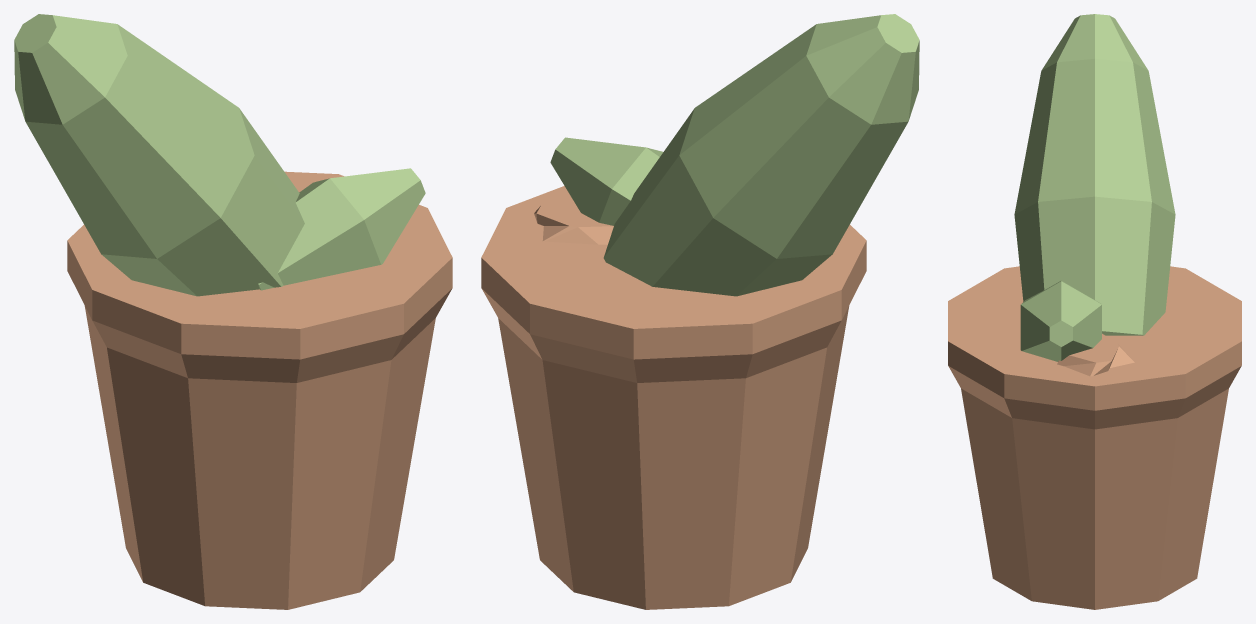
The model's file is lab_cactus_dead.glb.
The picture shows the model from 3 angles, left to right: view 1: azimuth 30°, elevation 25°; view 2: azimuth 150°, elevation 25°; view 3: azimuth 270°, elevation 25°; orthographic projection. The views are drawn at different scales.
Parts seen in each view (by area): view 1: lab_cactus_dead; view 2: lab_cactus_dead; view 3: lab_cactus_dead.
Boxes of the visible parts, left/top/right/bottom form: lab_cactus_dead: left=14, top=14, right=452, bottom=609; lab_cactus_dead: left=481, top=14, right=919, bottom=609; lab_cactus_dead: left=948, top=14, right=1241, bottom=609.
Size of the model in its own units: 0.5615 by 0.7725 by 0.4375.
